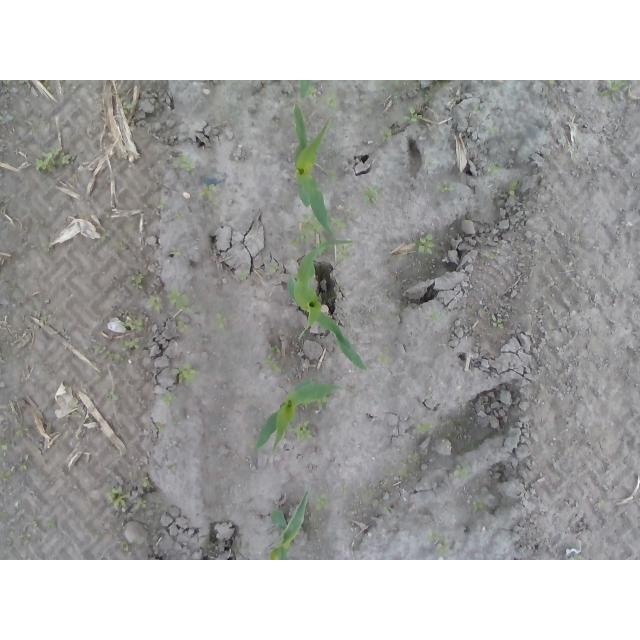Maize: (287, 238, 370, 370), (256, 378, 341, 452), (291, 104, 335, 237), (268, 490, 311, 560), (299, 80, 314, 98)
Weeds: (288, 215, 321, 248), (35, 146, 71, 174), (260, 345, 289, 375), (96, 346, 128, 367), (166, 286, 192, 310), (292, 419, 318, 442), (107, 484, 129, 510), (361, 183, 383, 209), (176, 362, 200, 385), (428, 530, 449, 554), (599, 80, 626, 98), (126, 270, 146, 290), (416, 233, 433, 256), (142, 292, 160, 313), (199, 183, 218, 202), (118, 337, 142, 352), (175, 153, 194, 171), (336, 243, 353, 263), (324, 84, 337, 108), (121, 319, 143, 333), (453, 464, 471, 481), (399, 107, 418, 122), (104, 385, 120, 402), (0, 465, 16, 482), (174, 318, 191, 334), (331, 218, 353, 230), (161, 393, 178, 408), (315, 494, 330, 511), (416, 418, 432, 432), (32, 310, 49, 323), (19, 527, 31, 545), (19, 453, 31, 471), (471, 499, 486, 513), (491, 315, 505, 330), (376, 352, 392, 365), (15, 424, 30, 437), (380, 127, 393, 141), (215, 311, 225, 329), (399, 463, 409, 481), (486, 162, 502, 173), (436, 180, 449, 193), (507, 179, 520, 191), (433, 80, 452, 88), (0, 438, 6, 462), (123, 102, 134, 115), (481, 126, 495, 136), (135, 497, 147, 508), (306, 86, 318, 97), (157, 197, 167, 209), (472, 104, 485, 113), (423, 87, 434, 97), (153, 423, 163, 434), (390, 95, 401, 105), (174, 210, 186, 219), (170, 248, 182, 257), (47, 519, 57, 529), (272, 120, 281, 129), (432, 312, 441, 321), (270, 264, 280, 272), (571, 556, 586, 561), (144, 480, 152, 489), (240, 272, 248, 281), (548, 80, 557, 85), (288, 256, 293, 265)
